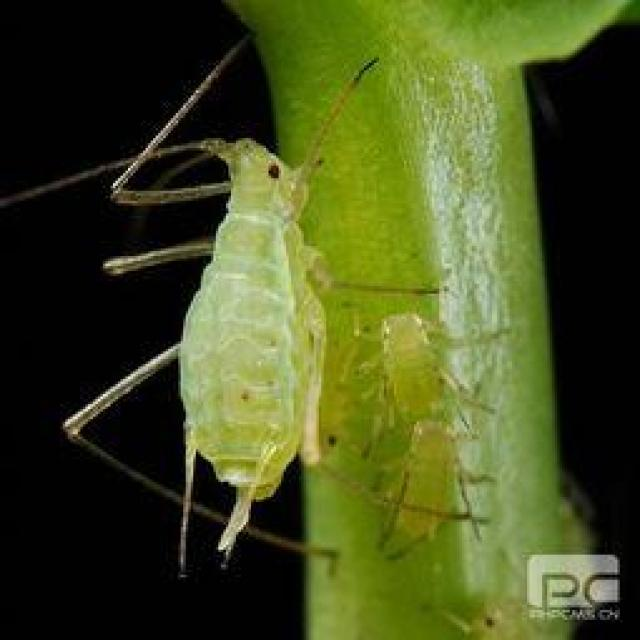Aphids: (42, 49, 358, 593), (342, 255, 523, 556)
